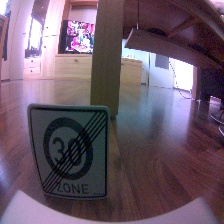dreisiger_zone_ende: (27, 103, 109, 200)
